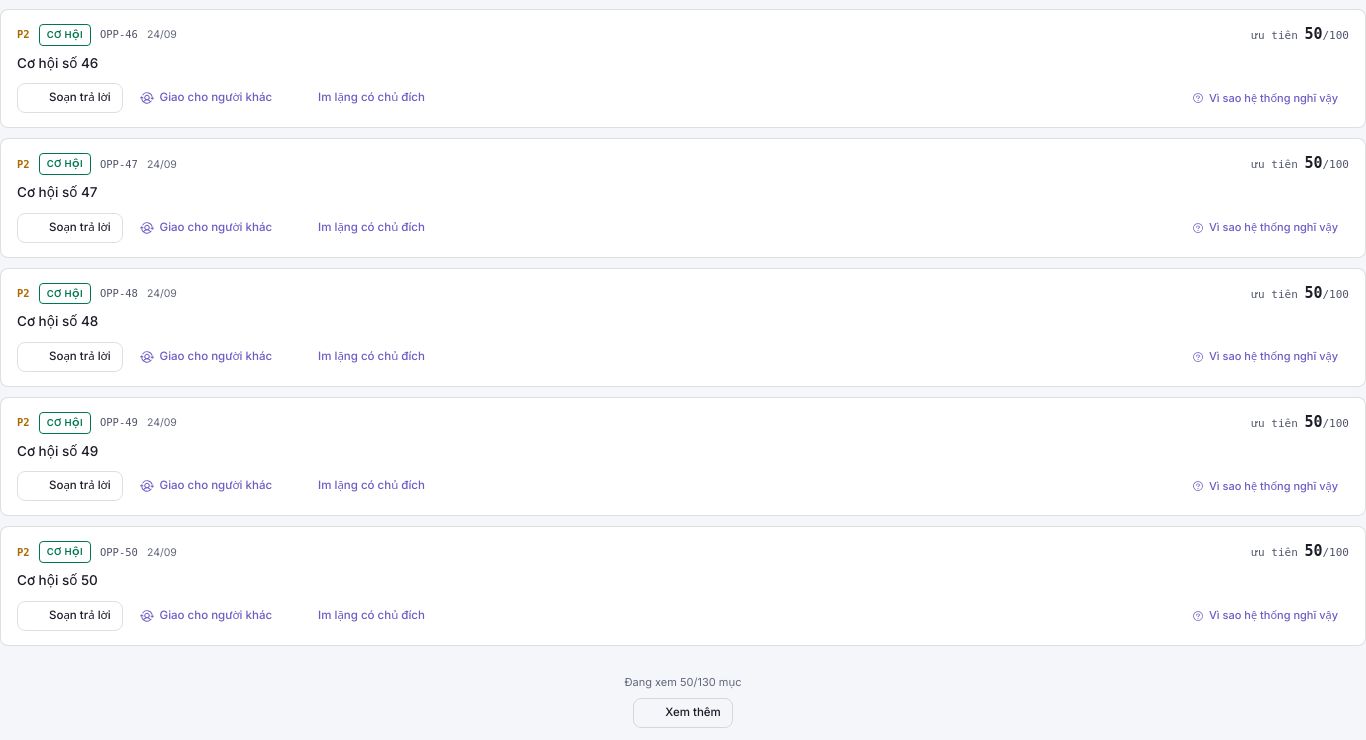
Hộp thư — Xem thêm (F052) › tải trang kế lỗi: GIỮ các dòng đã tải, báo lỗi thân thiện + "Chi tiết kỹ thuật", bấm thử lại thì nối tiếp
(page scrolled)
Click the button "Xem thêm".
click(683, 713)  # box [633,698,733,728]
(page scrolled)
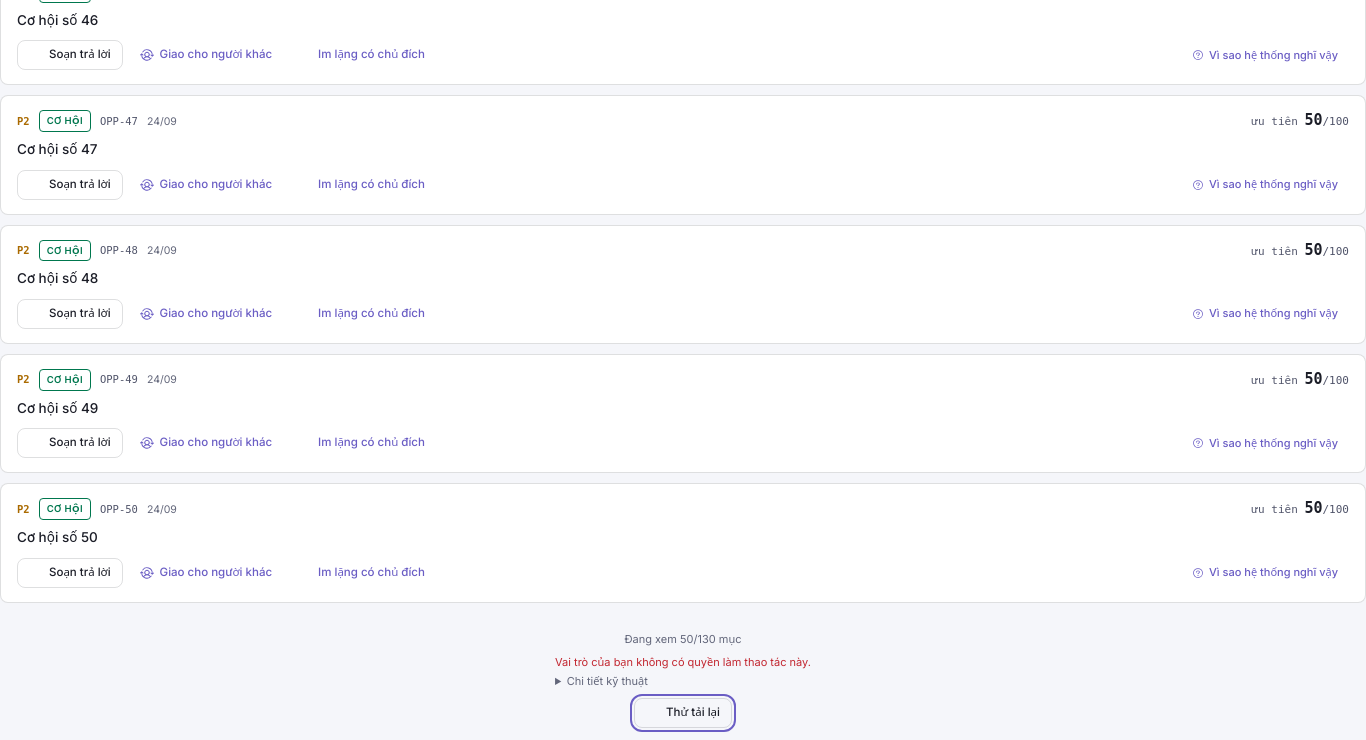
Expected: the message "Vai trò của bạn không có quyền làm thao tác này. Chi tiết kỹ thuật" is shown, [555,655,811,690]
Click the button "Thử tải lại".
click(683, 713)  # box [634,698,732,728]
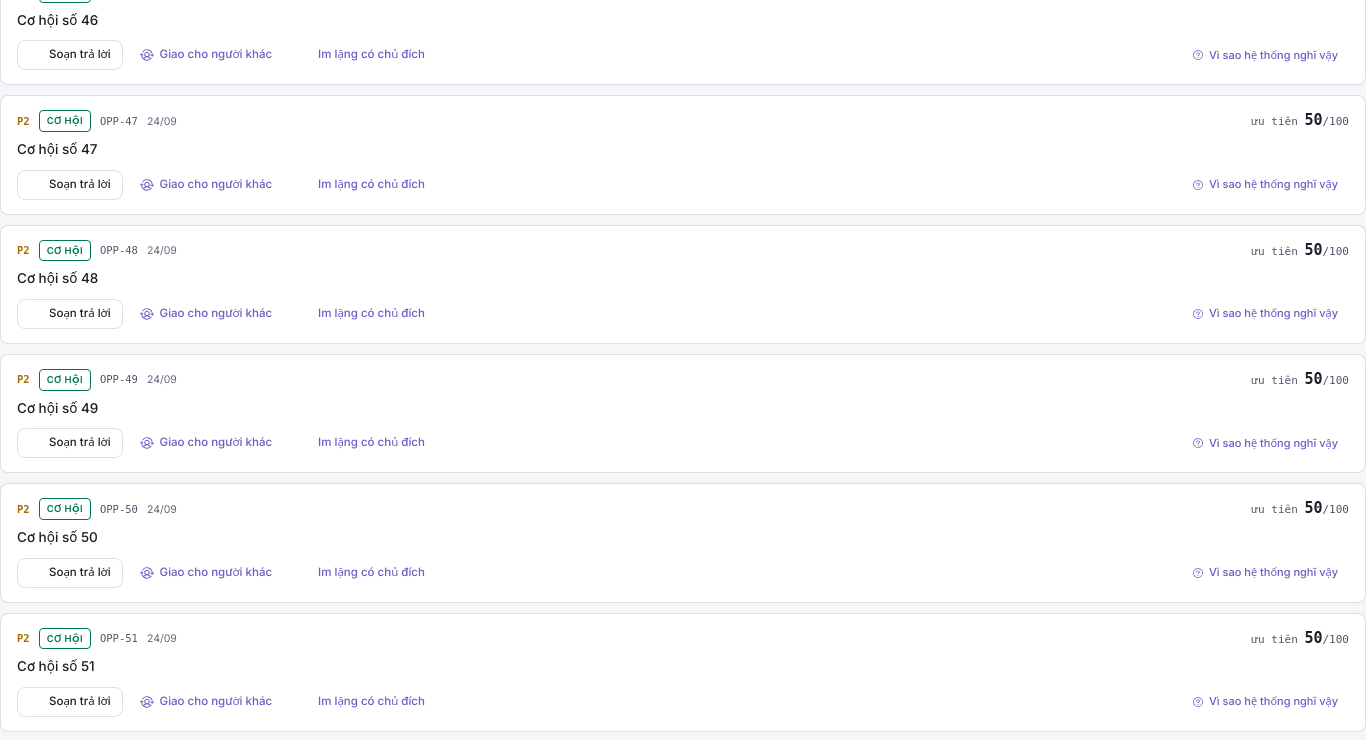
Expected: the heading "Cơ hội số 51" is shown, [17,658,95,674]
